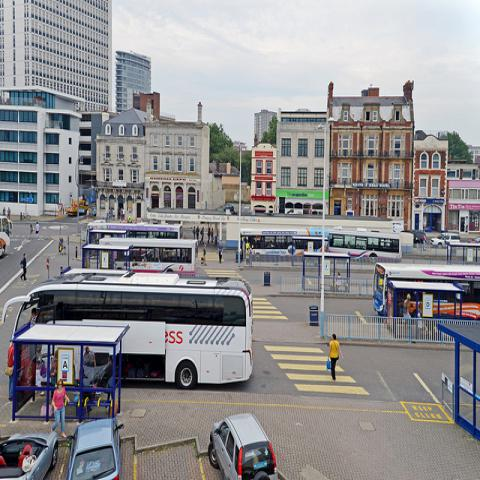bus: (2, 264, 257, 388), (371, 261, 479, 317), (100, 238, 198, 279), (241, 228, 330, 261), (387, 282, 464, 320), (294, 229, 402, 256), (86, 220, 184, 244), (0, 215, 14, 260)
car: (205, 411, 279, 479), (66, 418, 124, 479), (0, 431, 59, 479), (429, 232, 461, 248), (409, 228, 428, 244)
truck: (208, 411, 278, 479)
